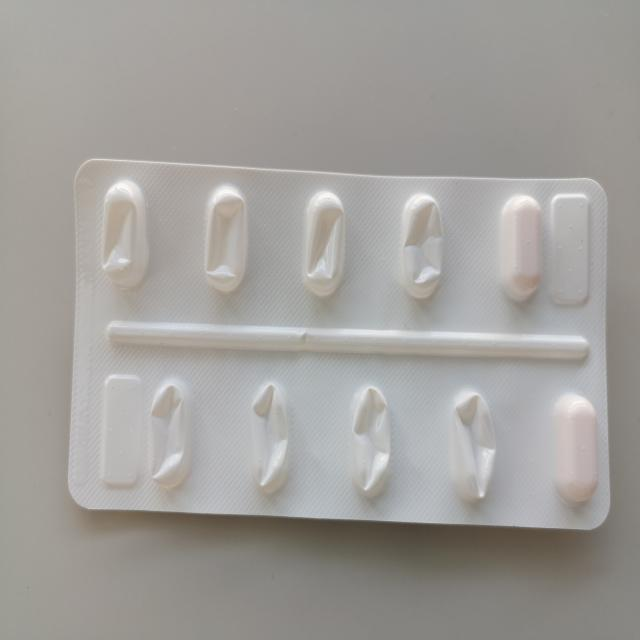Empty: (94, 175, 153, 298), (442, 379, 498, 506), (296, 176, 350, 304), (243, 373, 296, 503), (198, 176, 254, 297), (396, 184, 448, 307), (344, 380, 394, 504), (146, 369, 194, 498)
Pill: (495, 189, 553, 312), (546, 387, 604, 509)
